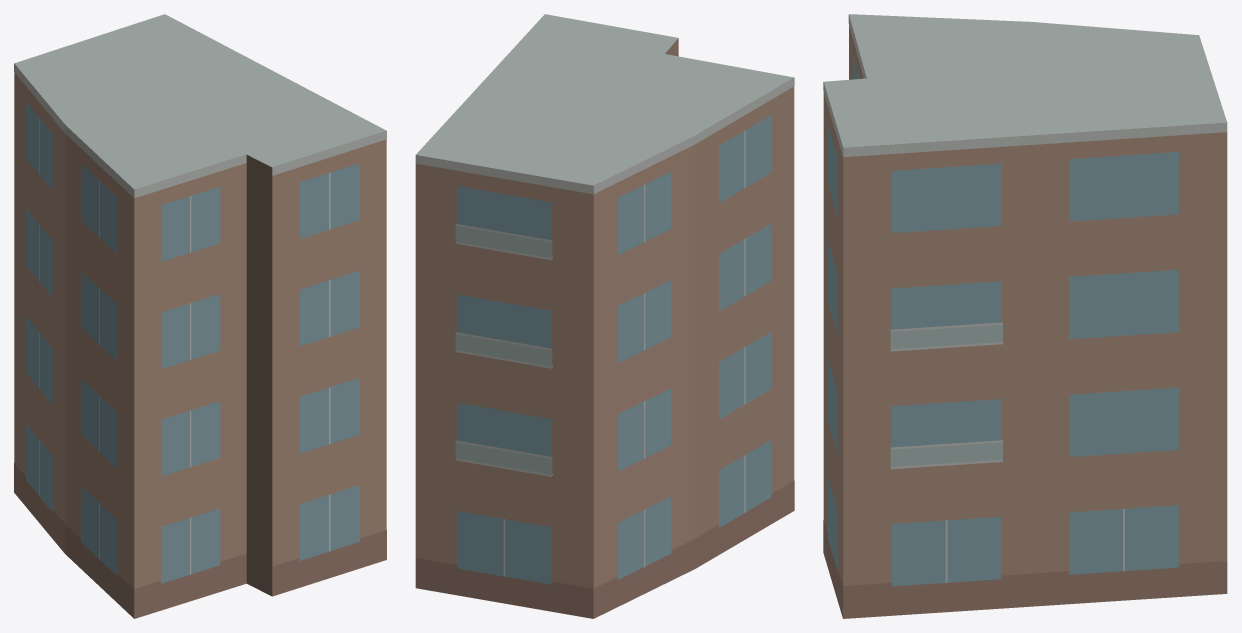
Rendered from survey-upis-32981709.glb.
3 views of the same model, side by side, from view 1: azimuth 30°, elevation 25°; view 2: azimuth 150°, elevation 25°; view 3: azimuth 270°, elevation 25° (orthographic). The views are drawn at different scales.
Visible parts, largest first — view 1: survey-upis-32981709.tmp; view 2: survey-upis-32981709.tmp; view 3: survey-upis-32981709.tmp.
Part boxes in pixels (x1,y1,x2,y2): survey-upis-32981709.tmp: (14,14,386,618); survey-upis-32981709.tmp: (415,14,794,618); survey-upis-32981709.tmp: (823,14,1227,618).
Bounding box in the file's own units: 7.44 × 12.2 × 9.49.
